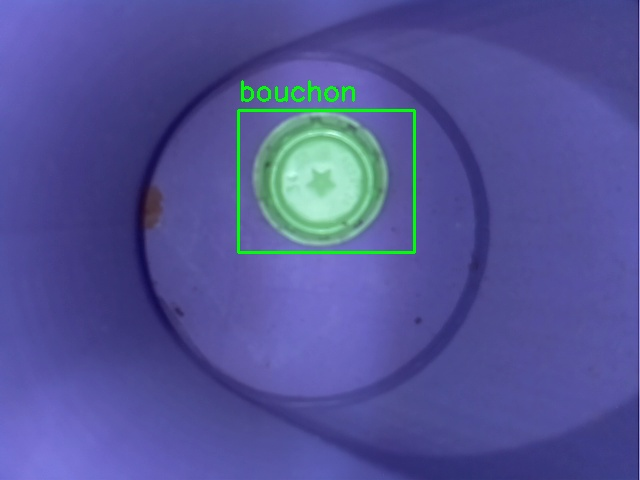bouchon: (238, 110, 414, 252)
